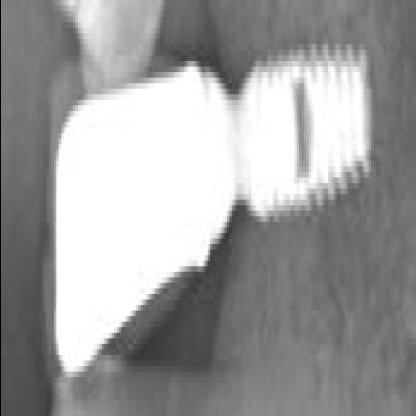Bicon: (242, 25, 376, 237)
